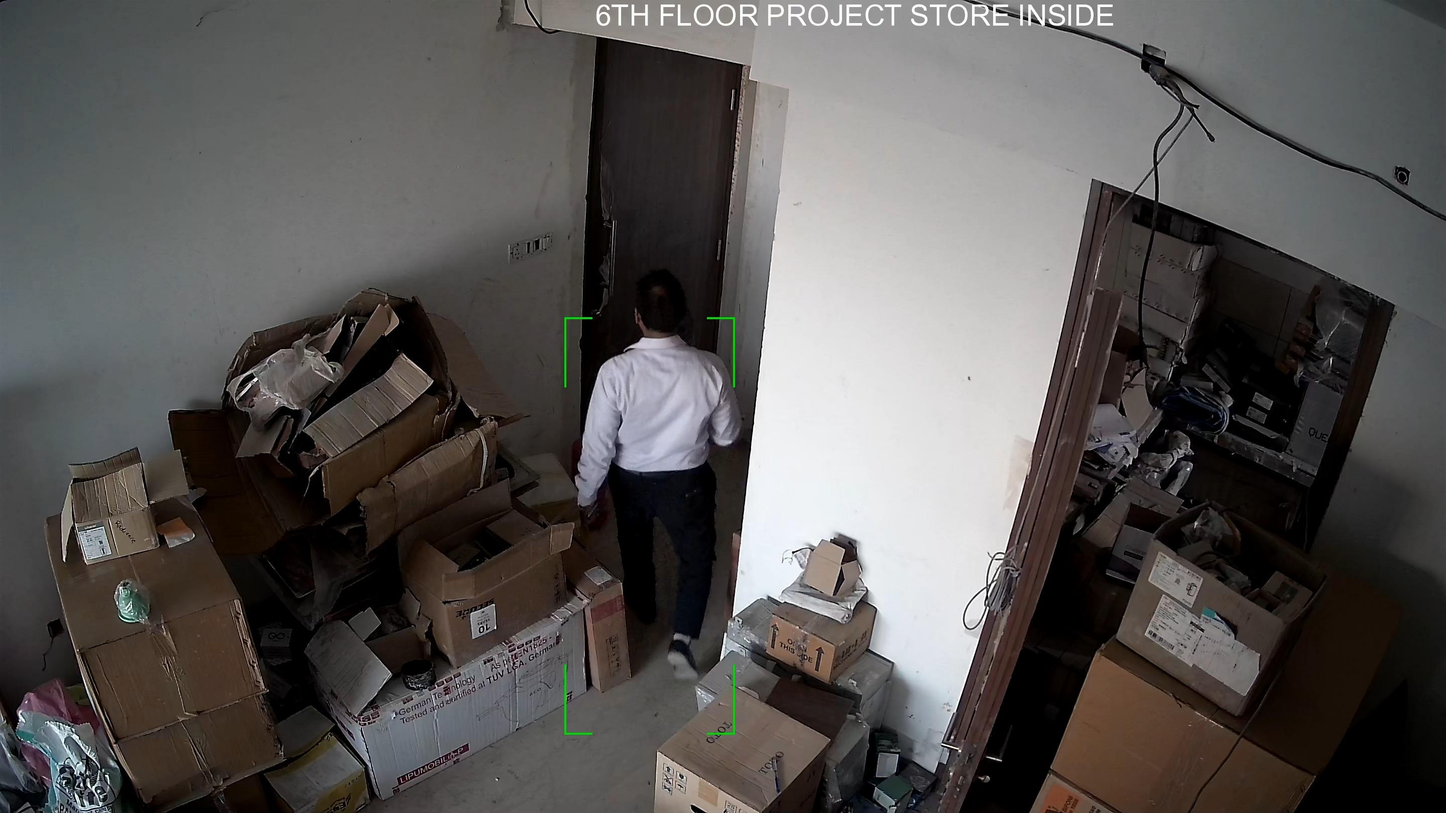Door-Close: (571, 34, 752, 435)
